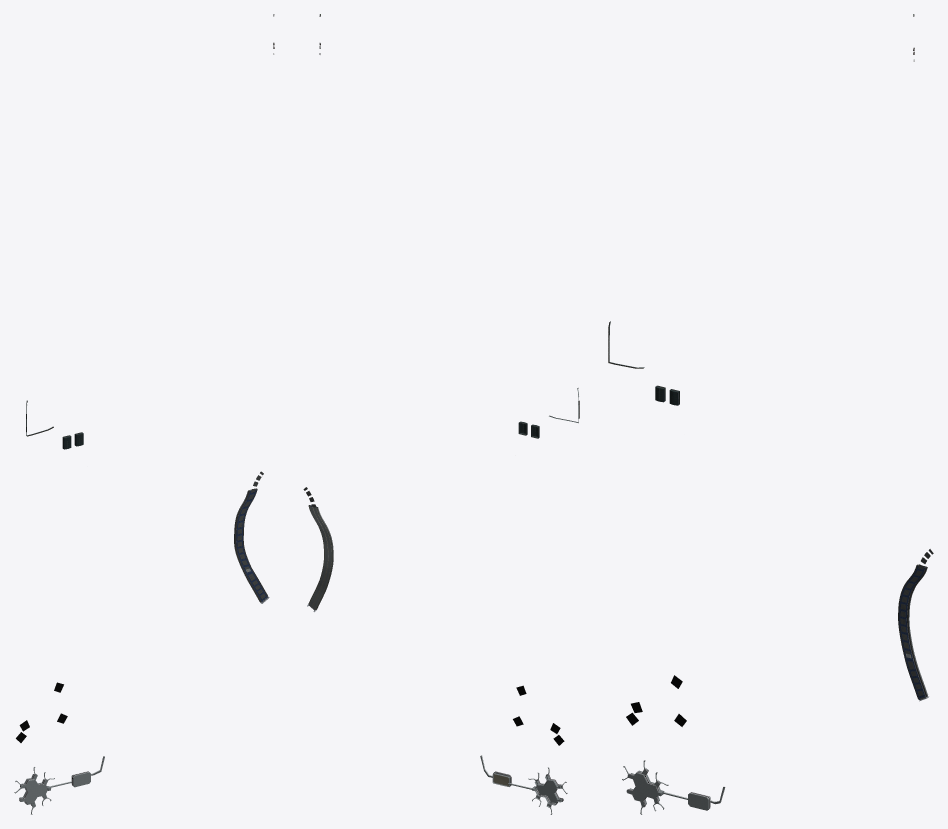
The model's file is landsw_landsw__part_21.obj.
The picture shows the model from 3 angles, left to right: view 1: azimuth 30°, elevation 25°; view 2: azimuth 150°, elevation 25°; view 3: azimuth 330°, elevation 25°; orthographic projection. The views are drawn at different scales.
Parts seen in each view (by area): view 1: landsw_landsw__part_21; view 2: landsw_landsw__part_21; view 3: landsw_landsw__part_21.
Boxes of the visible parts, <box> form: landsw_landsw__part_21: <box>14,14,274,814</box>; landsw_landsw__part_21: <box>303,14,579,814</box>; landsw_landsw__part_21: <box>608,14,933,814</box>.
Bounding box in the file's own units: 700 × 1933 × 103.
Materials: 96 (81 with a texture image).
